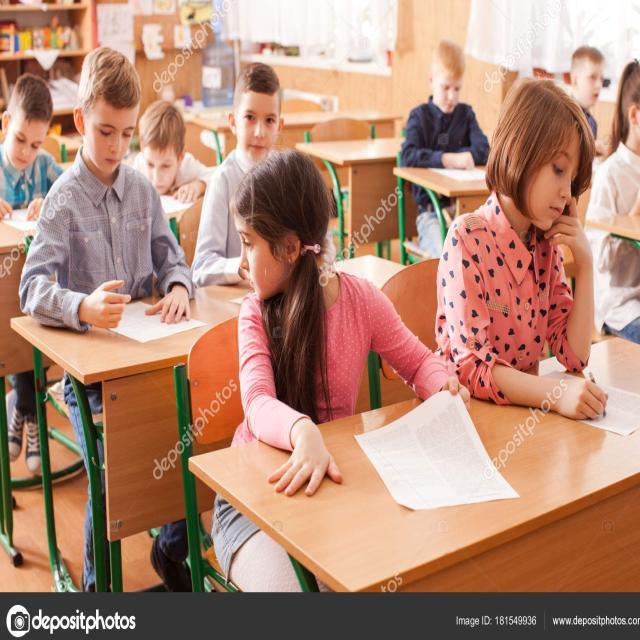cheating: (215, 137, 476, 503)
